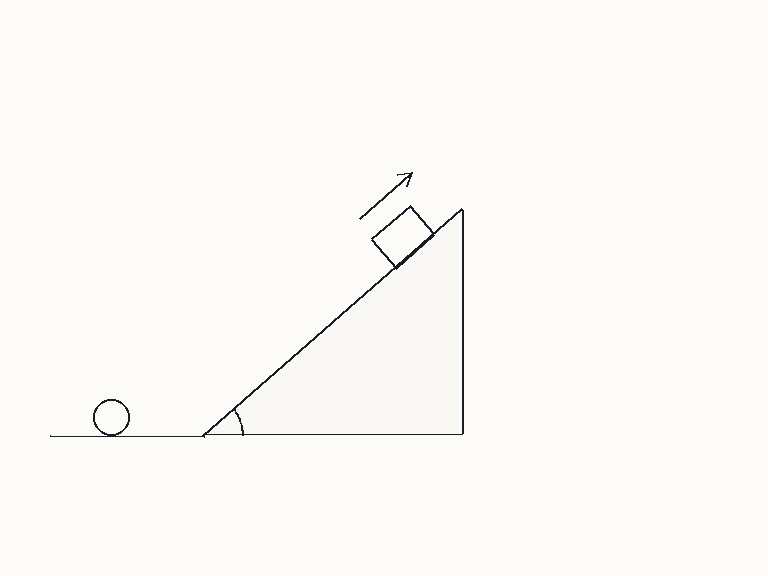ball: (91, 397, 131, 437)
block: (369, 204, 436, 270)
ramp: (201, 208, 464, 437)
